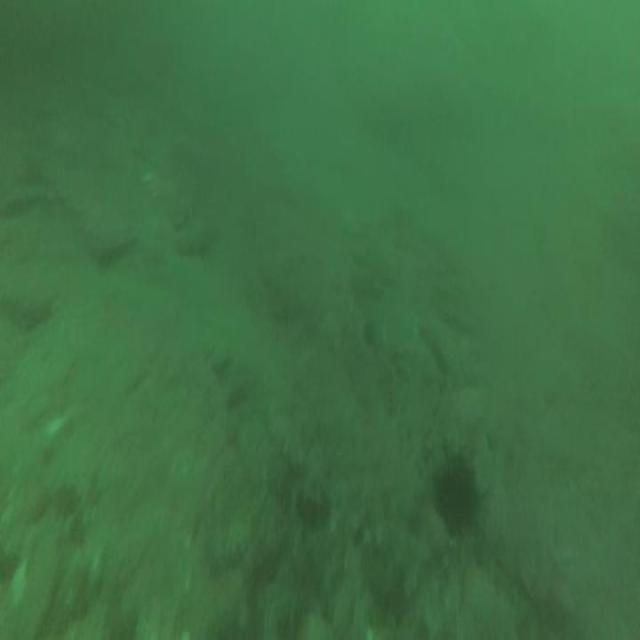echinus: (431, 457, 479, 532)
